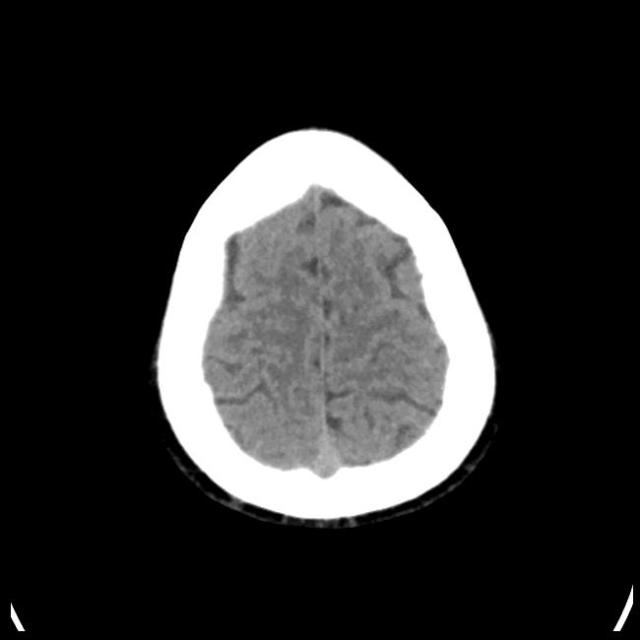lesion: (149, 121, 503, 533)
